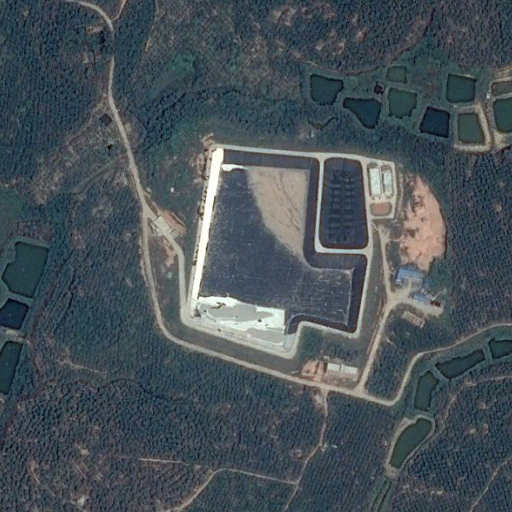lf: (190, 149, 367, 353)
